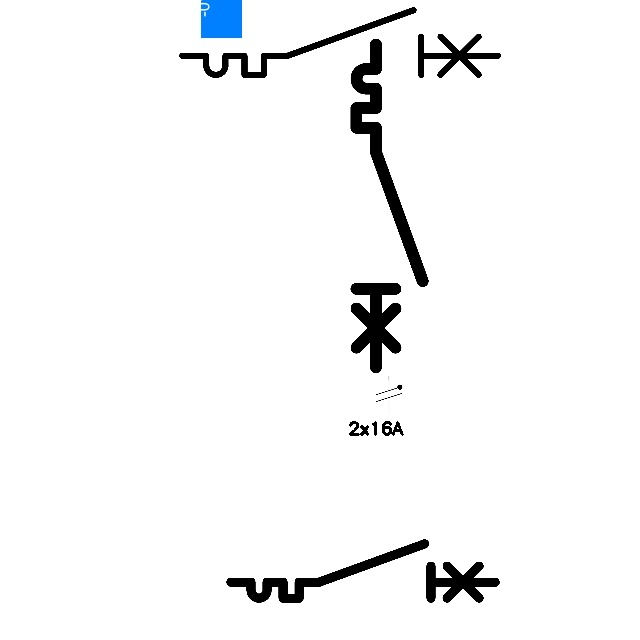interruptor_termomagnetico: (348, 36, 431, 375), (174, 2, 505, 83), (224, 537, 502, 605)
